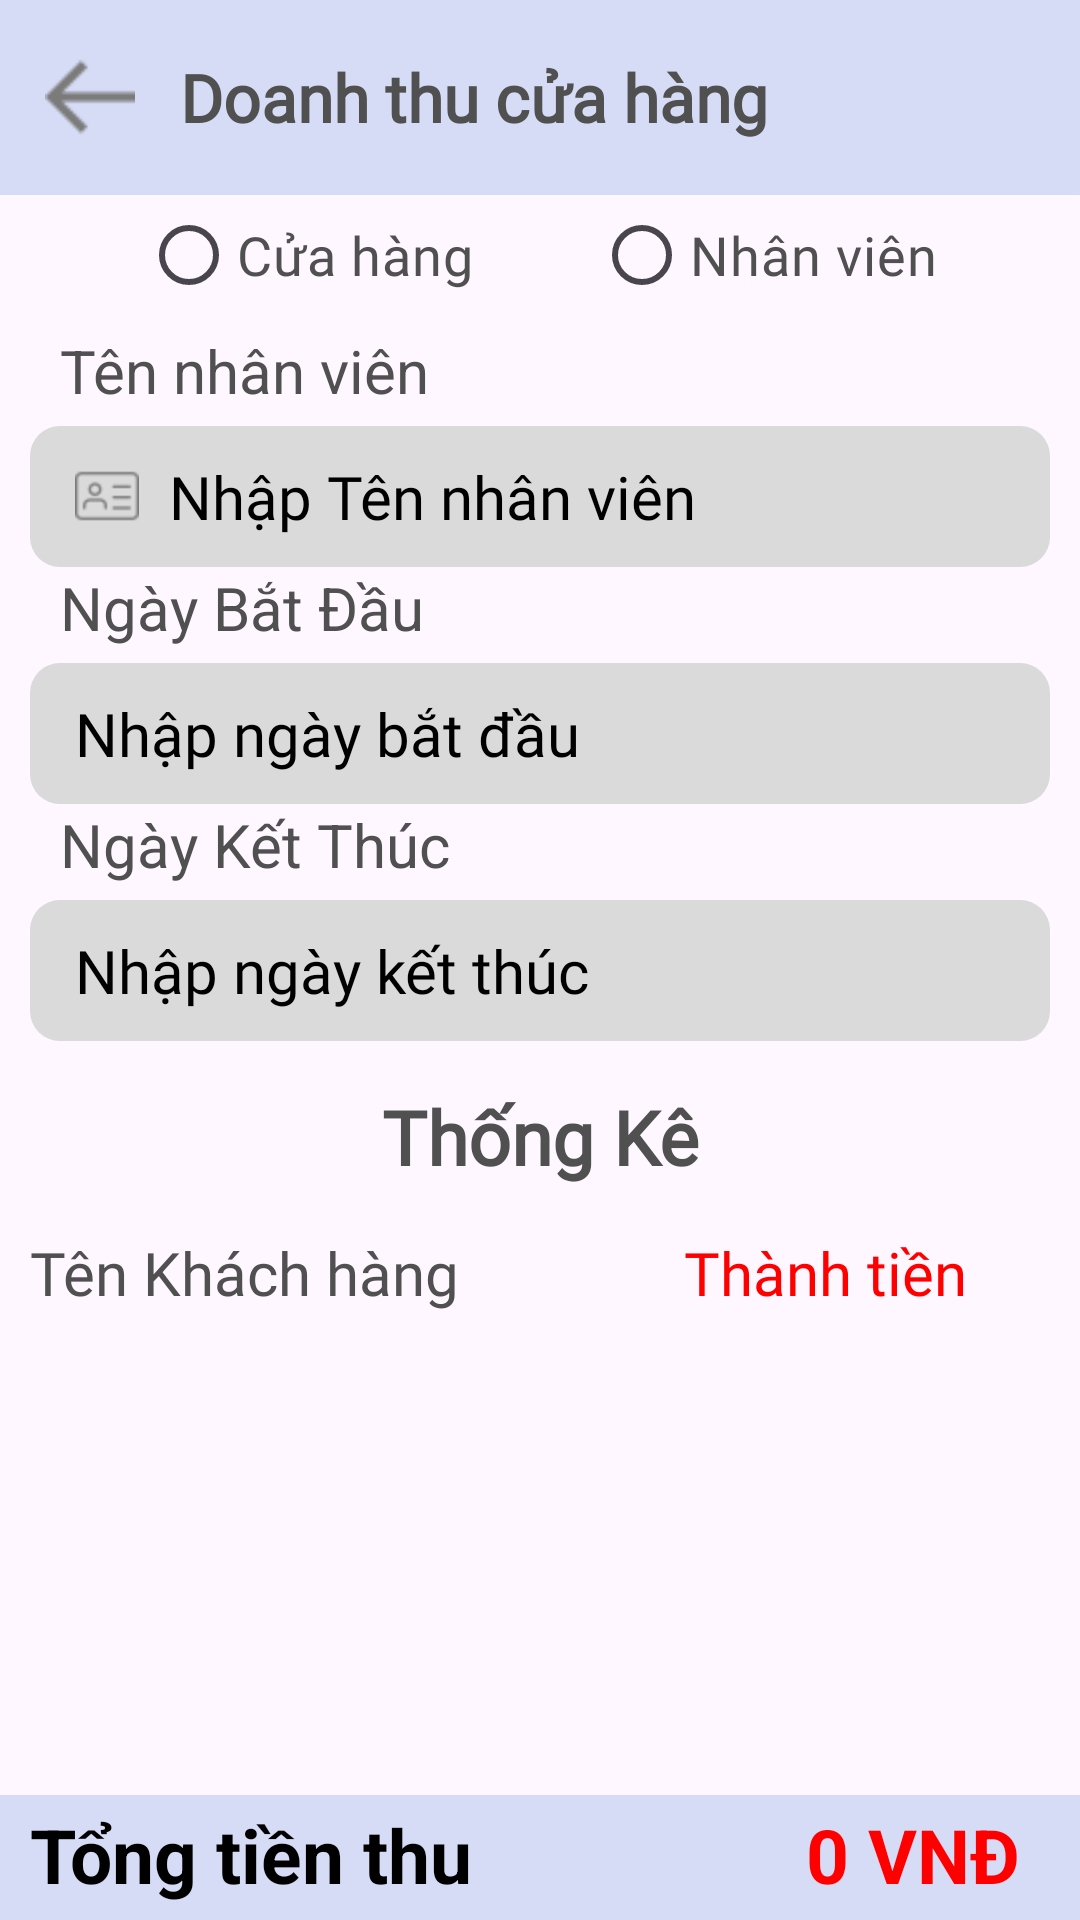

Icon click points for this 1080 × 1920 phone screenshot, format (x,y):
leftarrow: (90,97)
